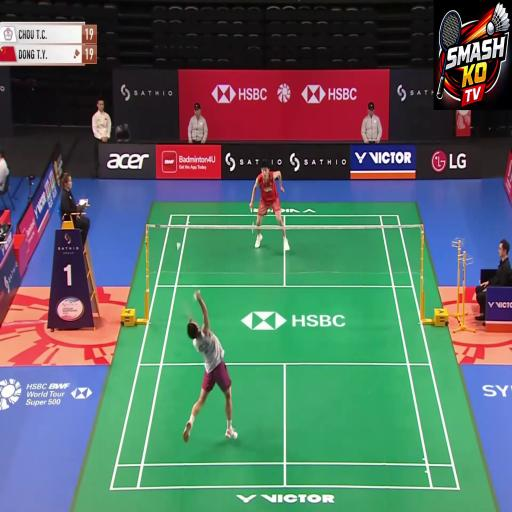player: (166, 285, 251, 453), (233, 162, 293, 257)
